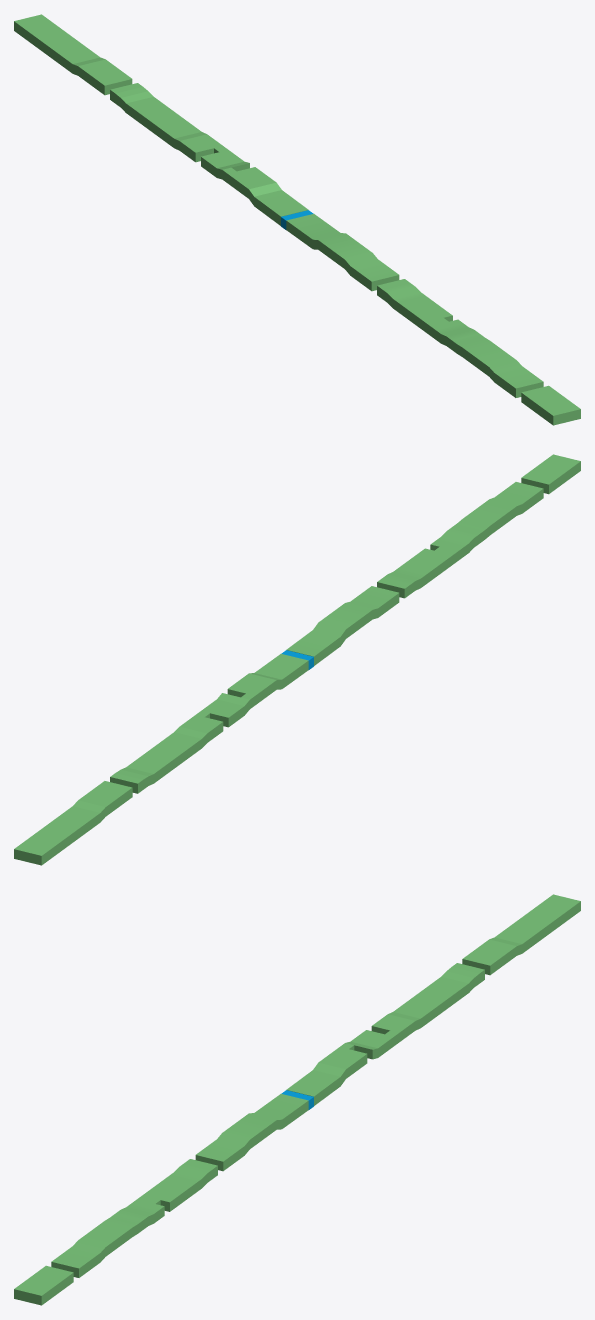
The model's file is terrain.fbx.
3 views of the same model, one above another, from view 1: azimuth 30°, elevation 25°; view 2: azimuth 150°, elevation 25°; view 3: azimuth 330°, elevation 25° (orthographic).
Visible parts, largest first — view 1: terrain2, terrain1; view 2: terrain1, terrain2; view 3: terrain2, terrain1.
Part boxes in pixels (x1=…): terrain2: x1=286, y1=214, x2=580, y2=425; terrain1: x1=14, y1=14, x2=308, y2=225; terrain1: x1=14, y1=654, x2=308, y2=865; terrain2: x1=286, y1=454, x2=580, y2=665; terrain2: x1=14, y1=1094, x2=308, y2=1305; terrain1: x1=286, y1=894, x2=580, y2=1105.
Size of the model in its own units: 30.01 by 14.22 by 1010.
